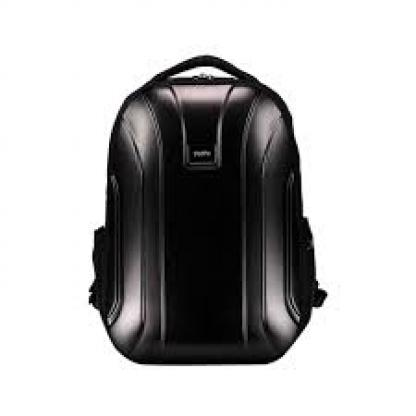morral: (78, 39, 342, 377)
